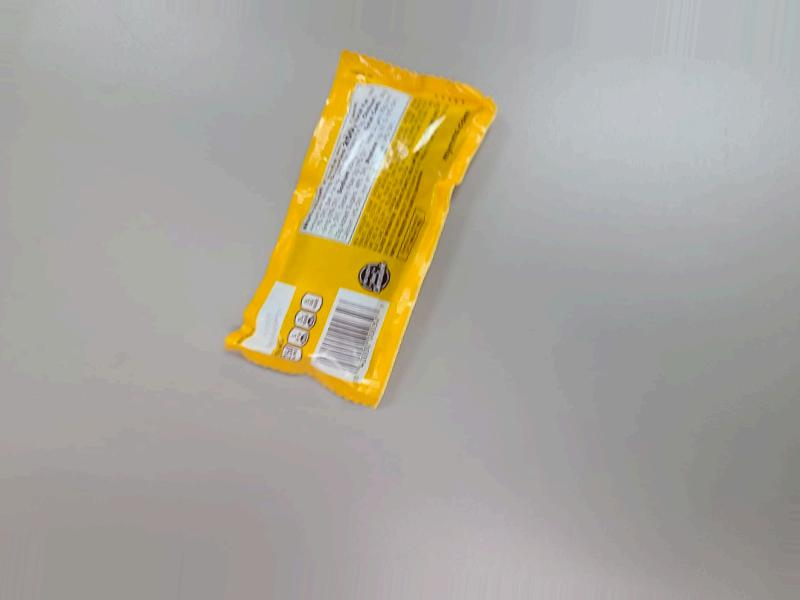m&m: (219, 62, 470, 408)
